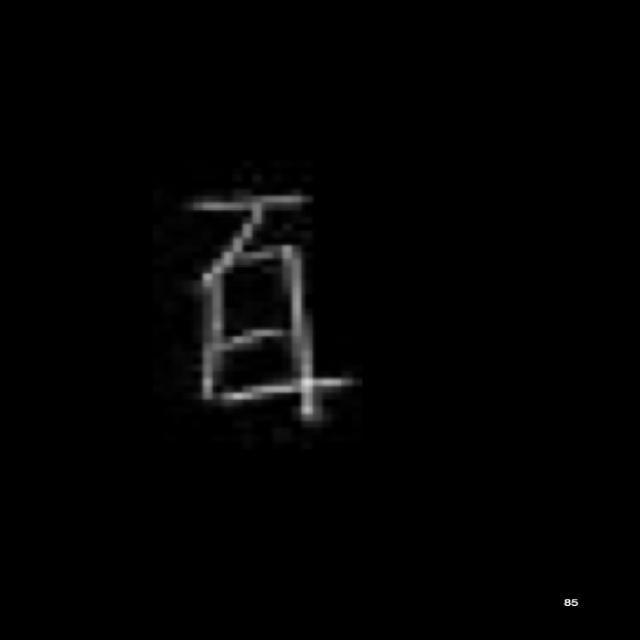100 -a hundred-: (161, 177, 367, 446)
